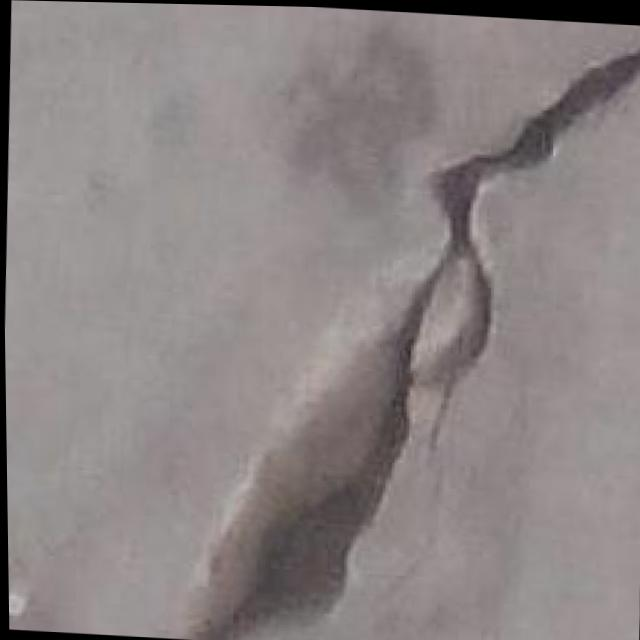Crack: (175, 6, 640, 640)
